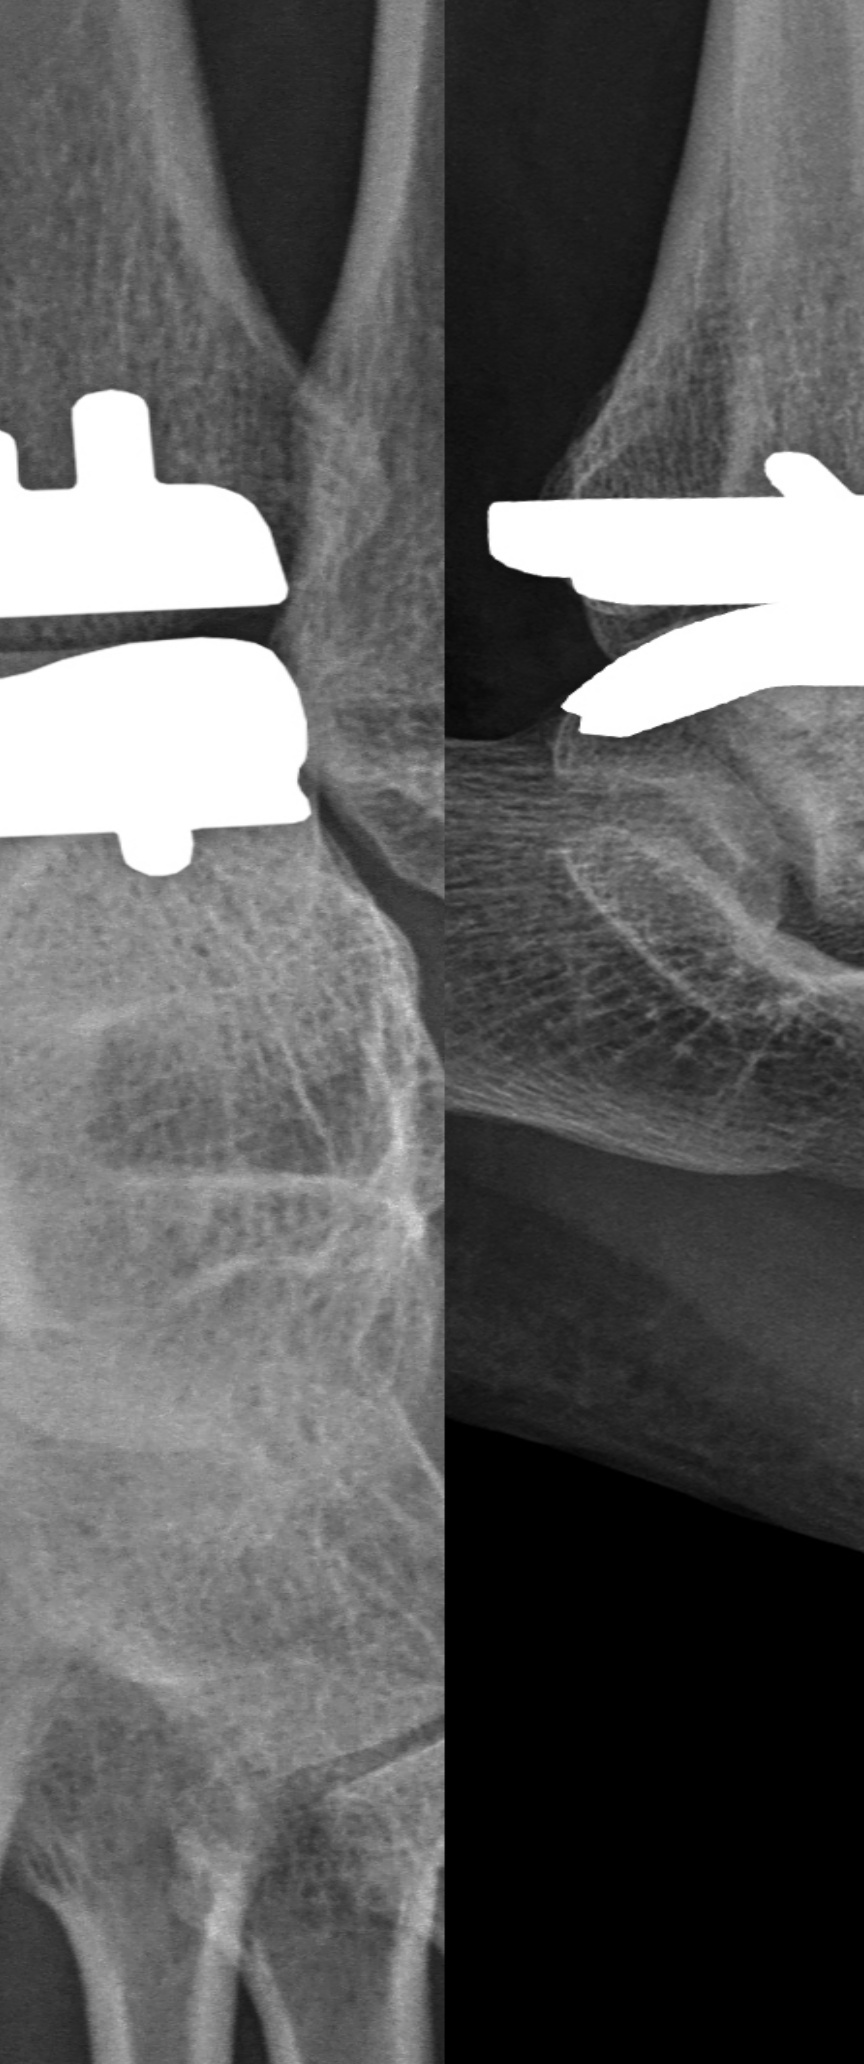Ankle - Infinity - Wright: (1, 379, 325, 887), (458, 413, 864, 758)
